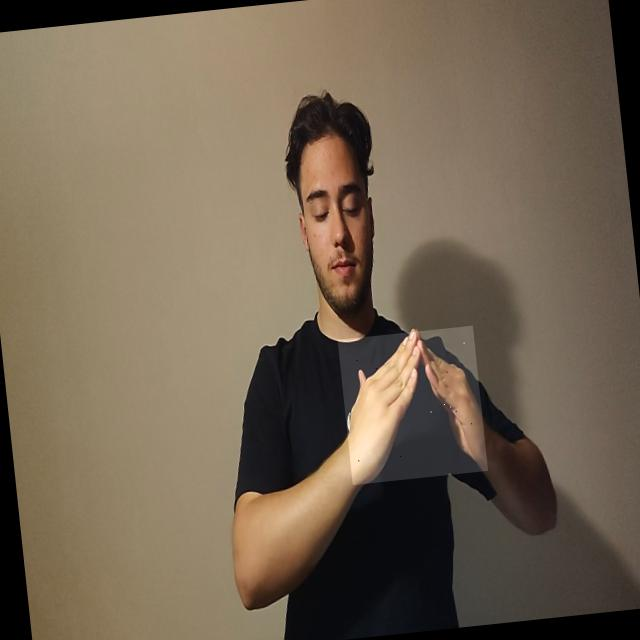house: (337, 326, 488, 484)
